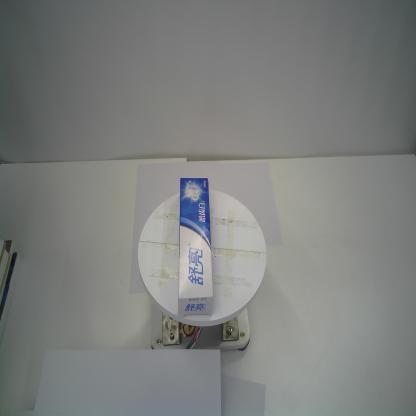Personal Hygiene: (175, 176, 215, 319)
